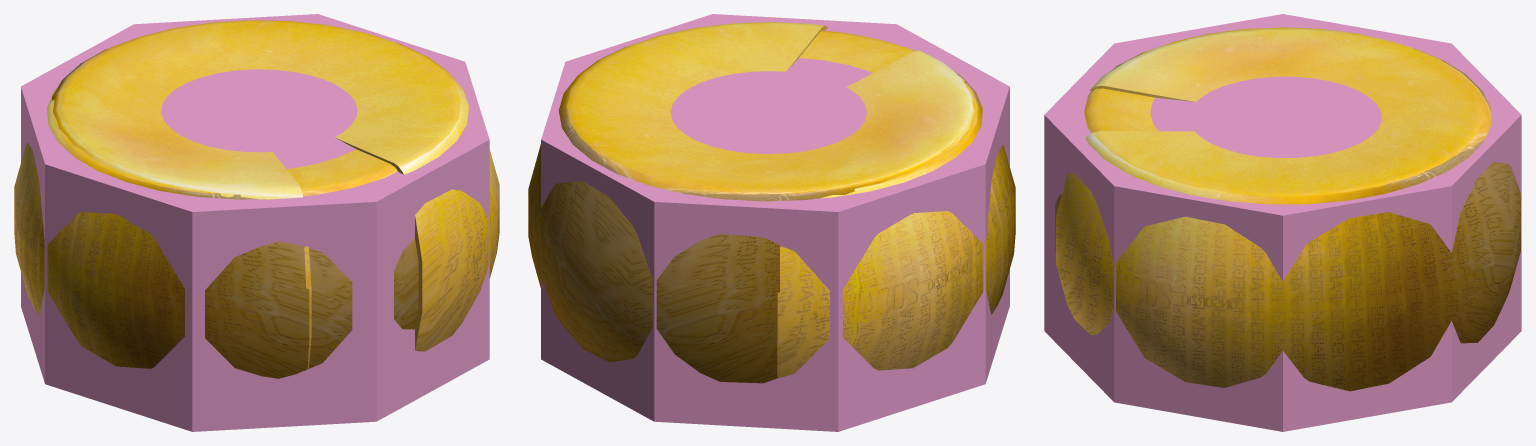
The model's file is cheese2.fbx.
3 views of the same model, side by side, from view 1: azimuth 30°, elevation 25°; view 2: azimuth 150°, elevation 25°; view 3: azimuth 270°, elevation 25° (orthographic).
Parts seen in each view (by area): view 1: UCL_chezbargo1, big_cheese2, small_cheese2; view 2: UCL_chezbargo1, big_cheese2, small_cheese2; view 3: big_cheese2, UCL_chezbargo1, small_cheese2.
Boxes of the visible parts, <box> form: UCL_chezbargo1: <box>21,14,489,431</box>; big_cheese2: <box>52,20,499,369</box>; small_cheese2: <box>14,87,418,378</box>; UCL_chezbargo1: <box>541,14,1009,431</box>; big_cheese2: <box>528,22,974,383</box>; small_cheese2: <box>777,30,1015,377</box>; big_cheese2: <box>1056,28,1520,391</box>; UCL_chezbargo1: <box>1044,14,1521,431</box>; small_cheese2: <box>1055,27,1397,253</box>.
Size of what is drawn, in the model's own units: 33.79 by 17.28 by 33.58.
